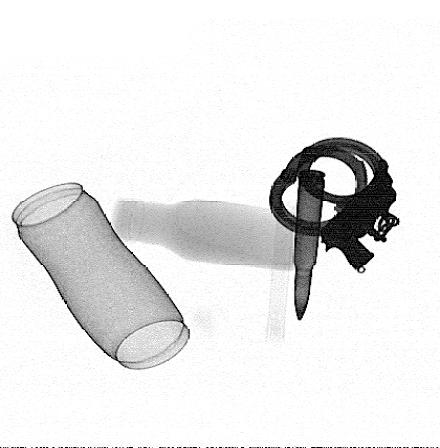Bullet: (294, 167, 325, 322)
Gun: (316, 168, 393, 272)
HandCuffs: (267, 133, 401, 245)
